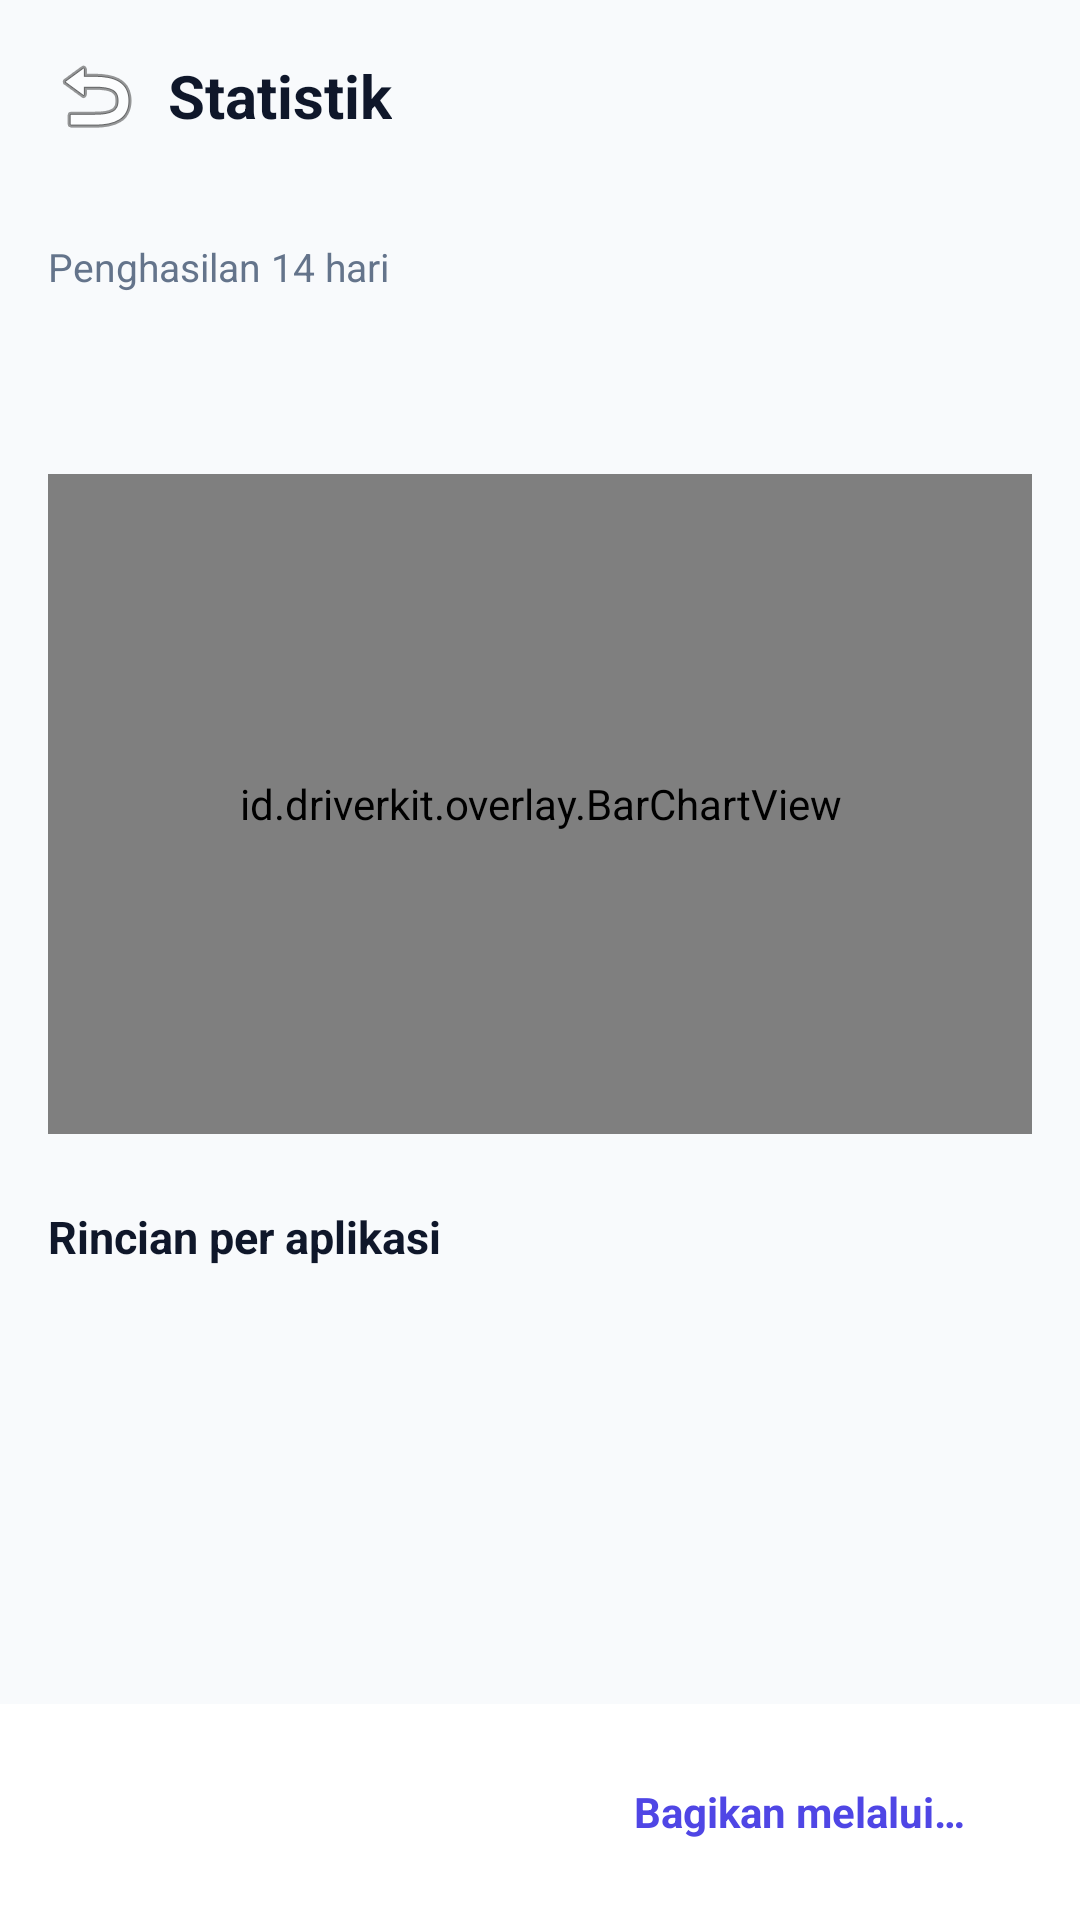

Named icons in this screenshot (1080w x 1920h) and their centers, point (x, y):
Batal: point (97, 96)
